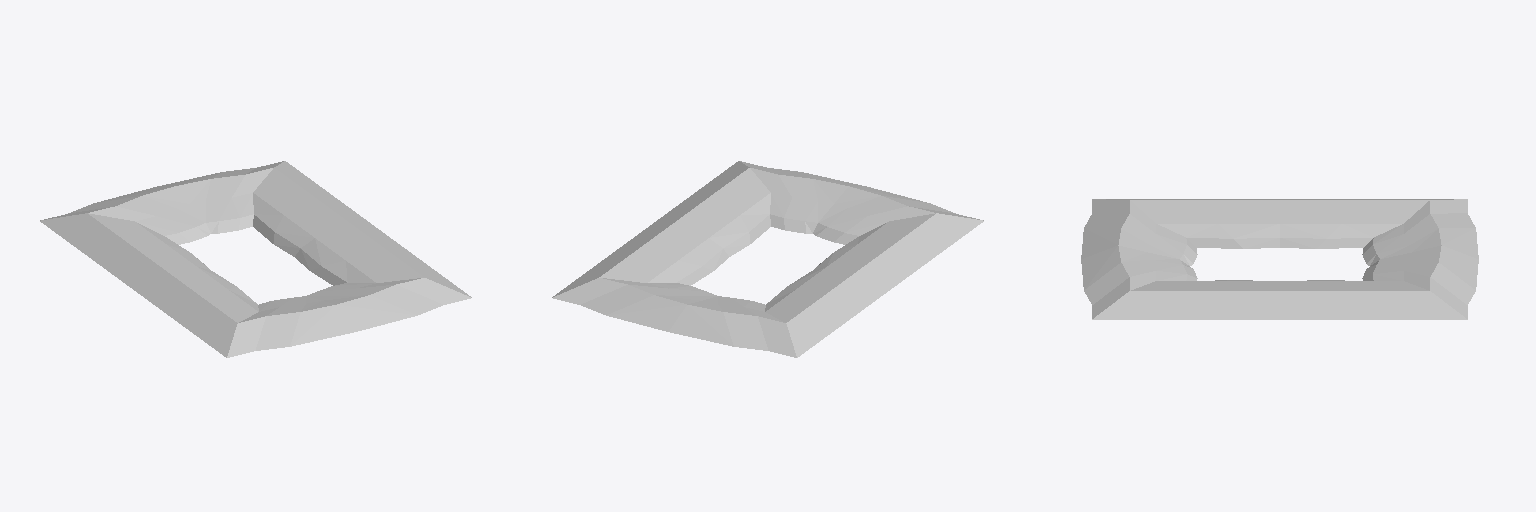
Rendered from SAMP_FLOOR.obj.
The picture shows the model from 3 angles: view 1: azimuth 30°, elevation 25°; view 2: azimuth 150°, elevation 25°; view 3: azimuth 270°, elevation 25°; orthographic projection.
Parts seen in each view (by area): view 1: Plane.001; view 2: Plane.001; view 3: Plane.001.
Part boxes in pixels (x1,y1,x2,y2): Plane.001: (40, 161, 471, 357); Plane.001: (552, 161, 983, 357); Plane.001: (1081, 199, 1478, 319).
Bounding box in the file's own units: 19.35 × 1.6 × 27.09.